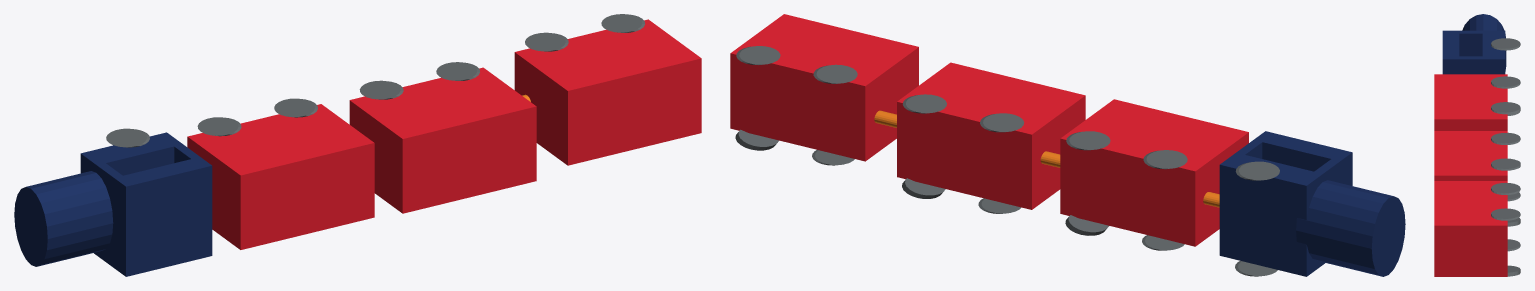
File: tinker.obj
The picture shows the model from 3 angles, left to right: view 1: azimuth 30°, elevation 25°; view 2: azimuth 150°, elevation 25°; view 3: azimuth 270°, elevation 25°; orthographic projection. The views are drawn at different scales.
Parts seen in each view (by area): view 1: group_0_15277357, group_0_1650274, group_0_6383466; view 2: group_0_15277357, group_0_1650274, group_0_6383466, group_0_16089887; view 3: group_0_15277357, group_0_1650274, group_0_6383466.
Part boxes in pixels (bbox=[...]): group_0_15277357: bbox=[187, 19, 701, 249]; group_0_1650274: bbox=[14, 132, 212, 276]; group_0_6383466: bbox=[106, 14, 644, 147]; group_0_15277357: bbox=[730, 14, 1248, 246]; group_0_1650274: bbox=[1219, 131, 1405, 276]; group_0_6383466: bbox=[735, 46, 1279, 276]; group_0_16089887: bbox=[874, 110, 1219, 207]; group_0_15277357: bbox=[1434, 74, 1507, 276]; group_0_1650274: bbox=[1442, 14, 1506, 74]; group_0_6383466: bbox=[1491, 38, 1520, 276].
Bounding box in the file's own units: 427 × 66 × 73.
